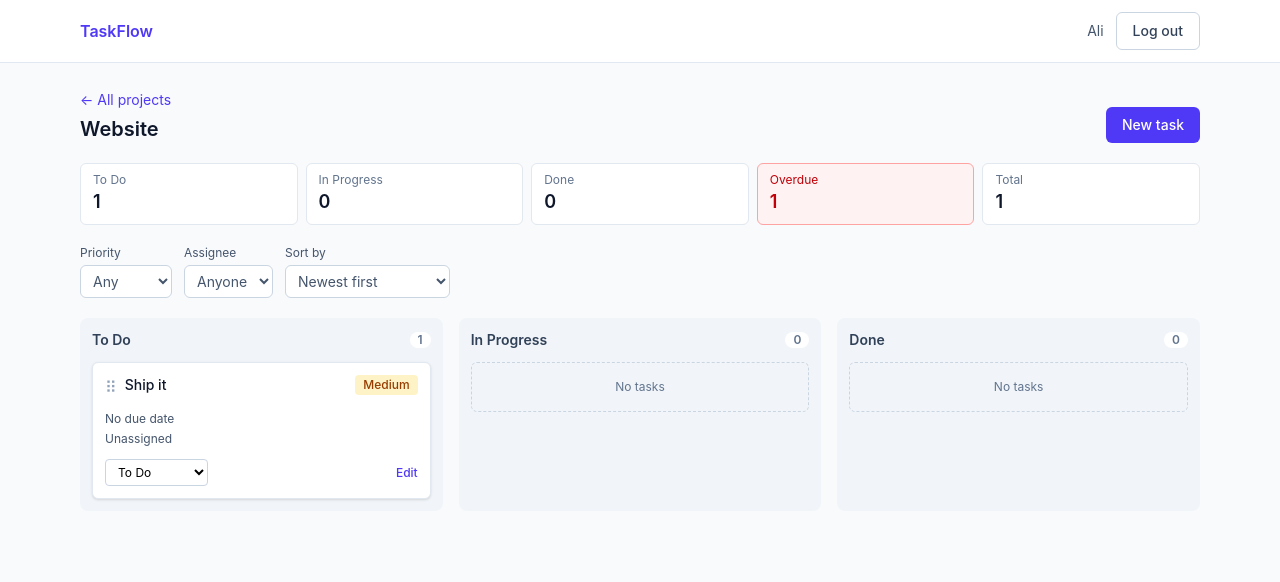
if saving the status fails, the card goes back and the user is told
Select "Done" in the dropdown named "Status of Ship it" at (156, 472), box x1=105 y1=459 x2=208 y2=486
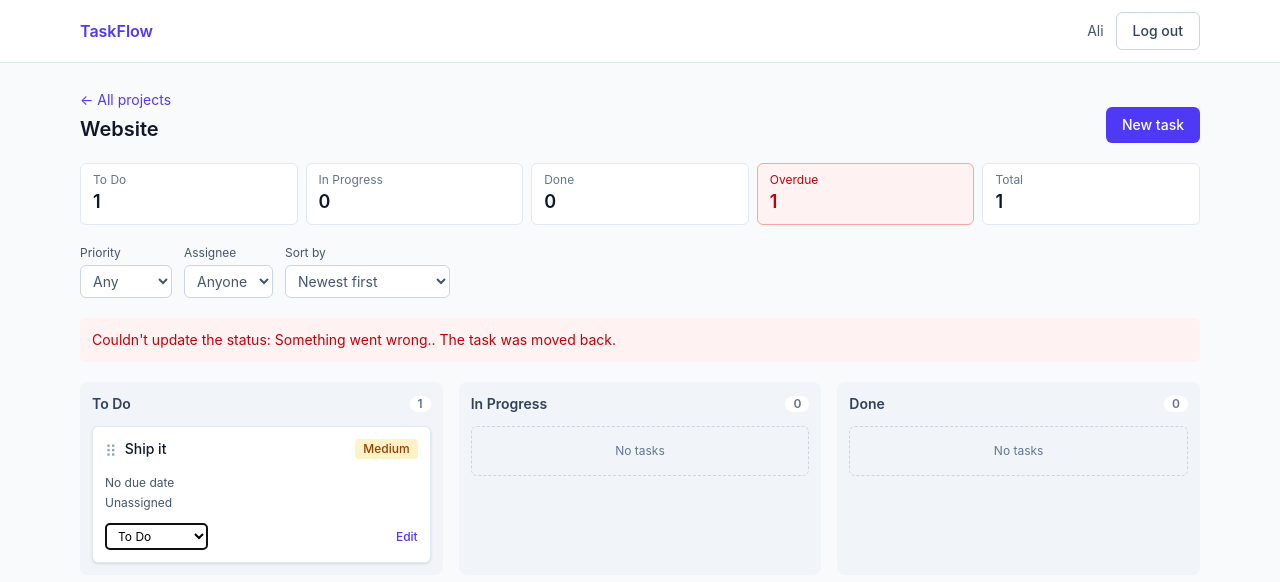
Expected: the element "Ship it" is shown, x1=92 y1=426 x2=431 y2=563
Now the text "Couldn't update the status: Something went wrong.. The task was moved back." is shown, box x1=80 y1=318 x2=1200 y2=362
